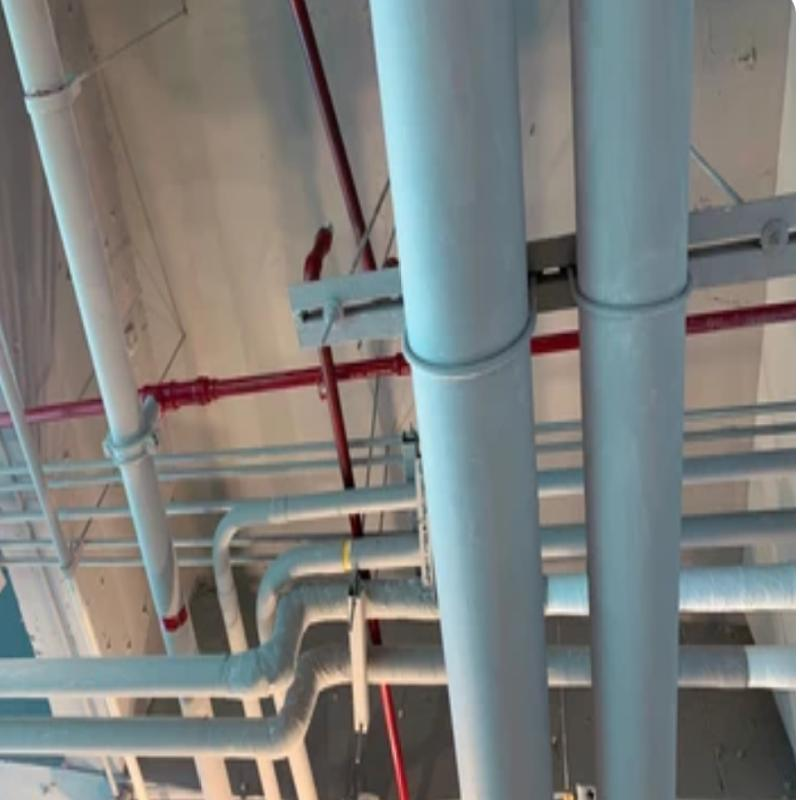Healthy: (347, 8, 574, 800), (1, 7, 198, 712), (553, 5, 710, 800)
